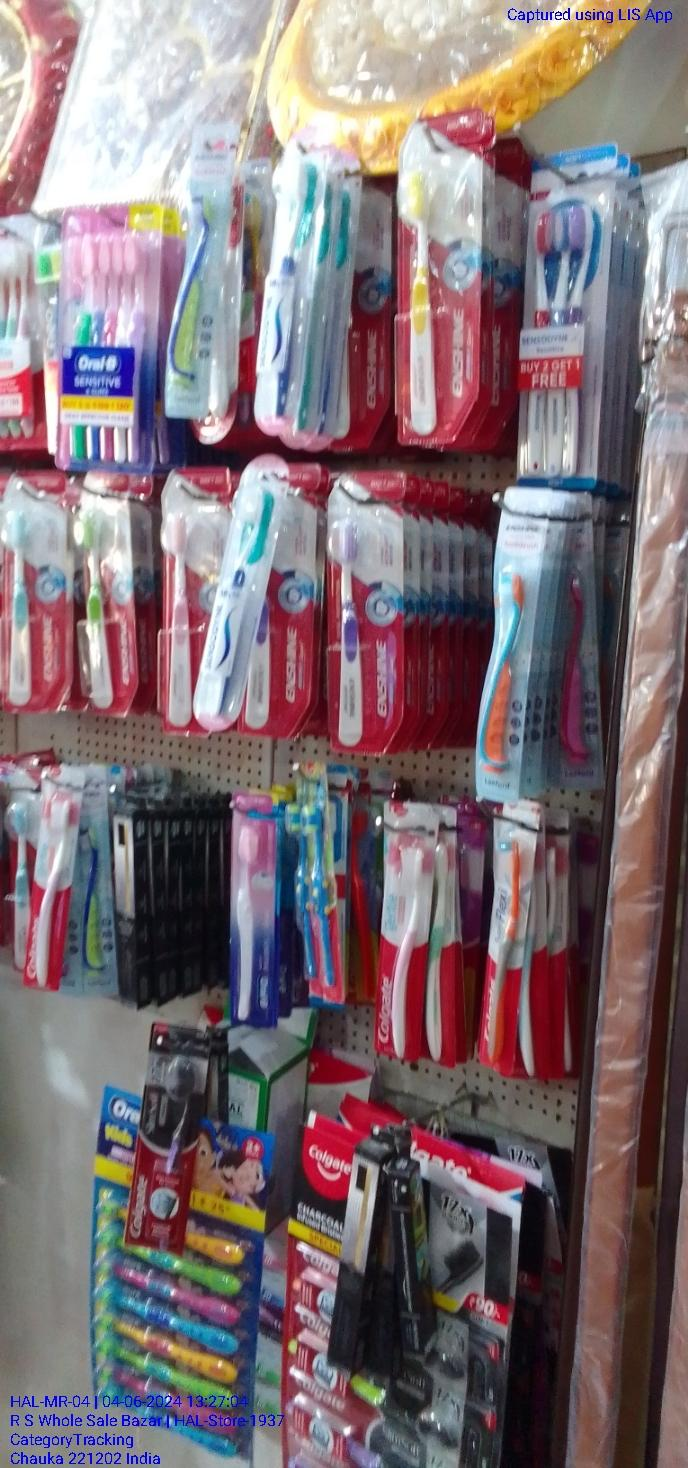soap: (127, 1024, 201, 1249)
